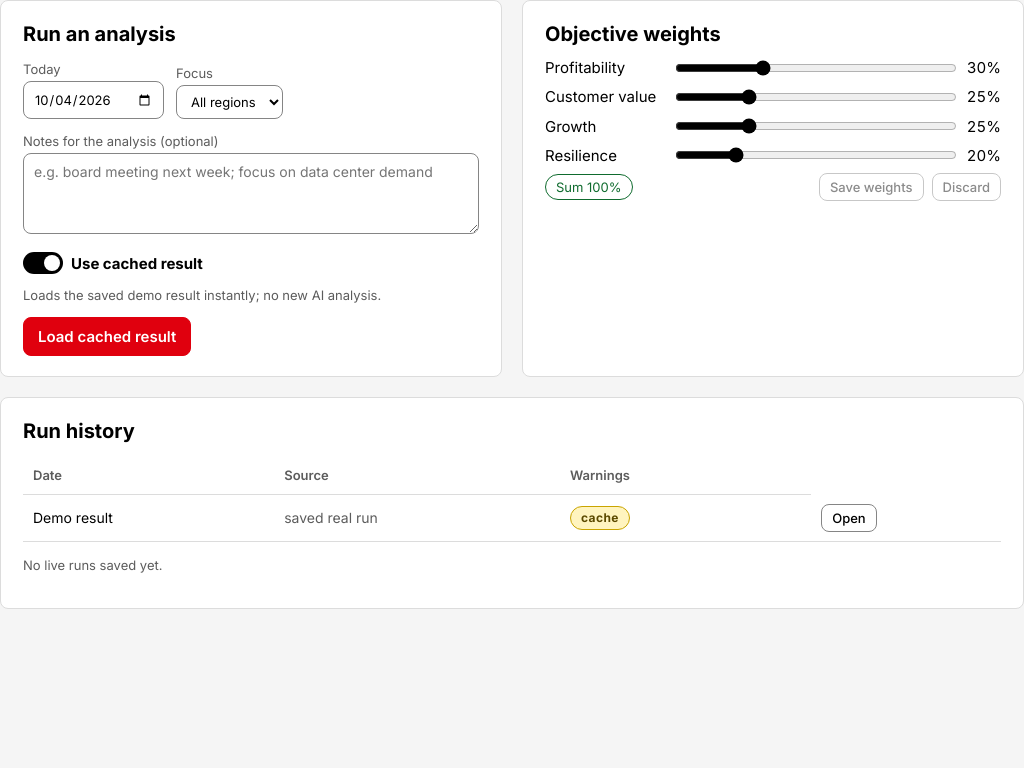
Test case: RunTab weights › shows an inline error and disables Run when the weights don't add up to 100
Check: the button "Load cached result" is enabled, box left=23, top=317, right=191, bottom=356
Check: the message with test id "weights-sum" reads "Sum 100%", box left=545, top=174, right=632, bottom=200
Set the slider labelled "Growth" to "40" at (789, 126), box left=675, top=118, right=957, bottom=134
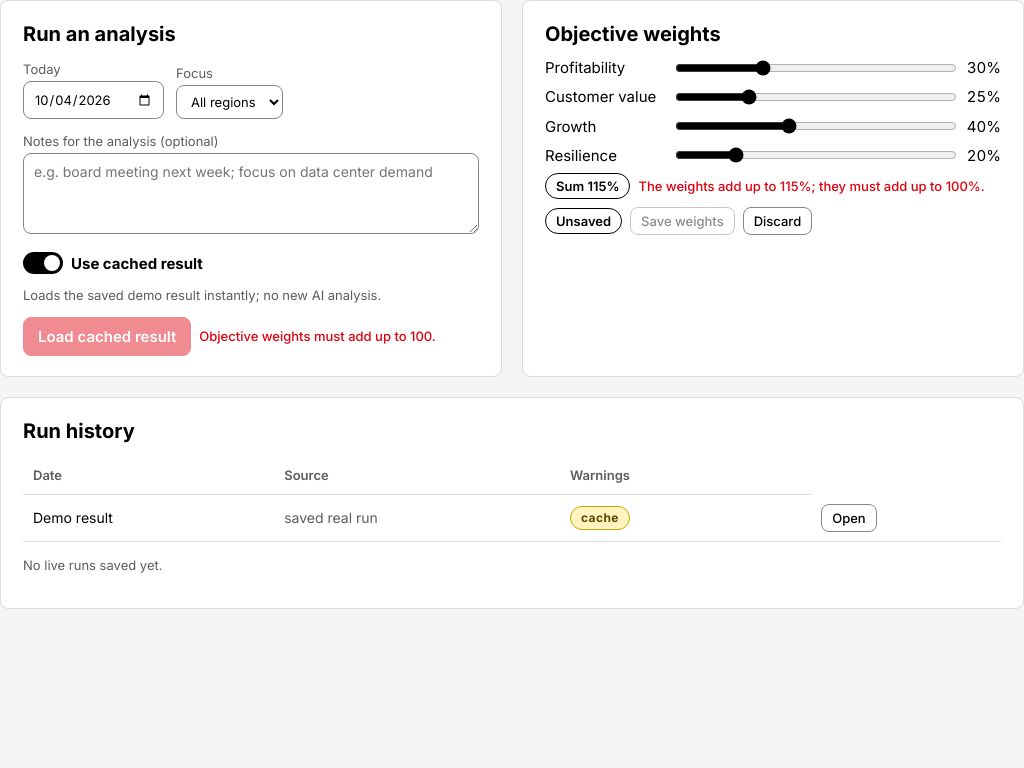
Check: the message with test id "weights-sum" reads "Sum 115%", box left=545, top=173, right=630, bottom=199
Check: the text "The weights add up to 115%; they must add up to 100%." is shown, box left=638, top=176, right=985, bottom=196
Check: the button "Load cached result" is disabled, box left=23, top=317, right=191, bottom=356
Set the slider labelled "Resilience" to "5" at (696, 155), box left=675, top=147, right=957, bottom=163
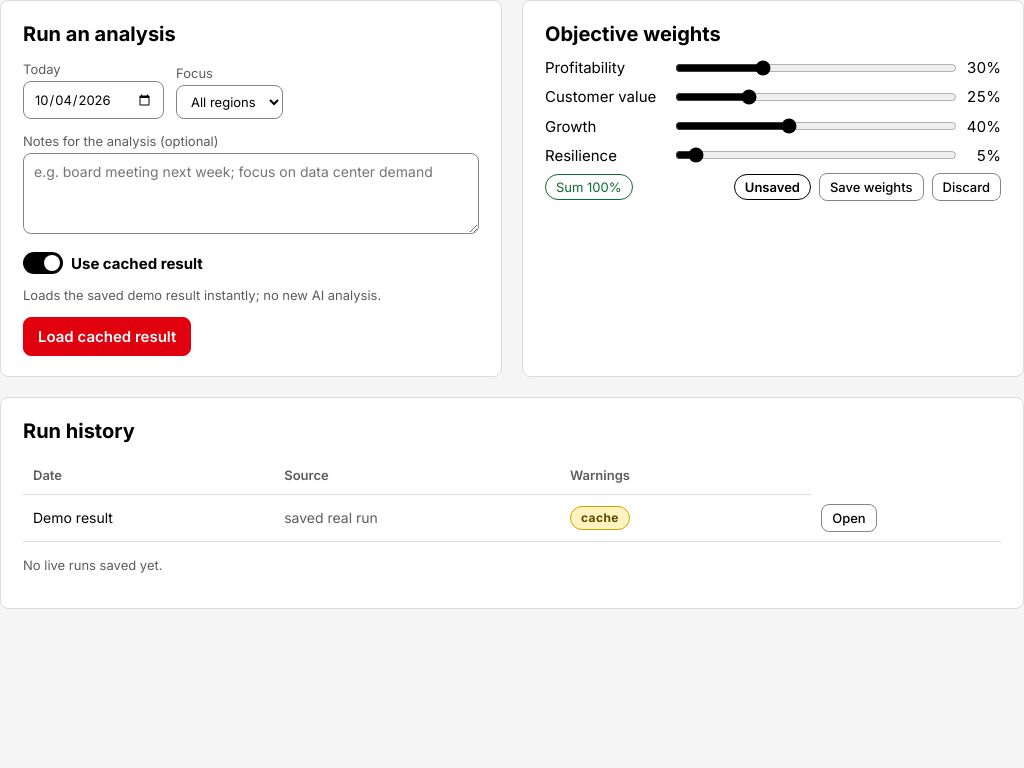
Check: the message with test id "weights-sum" reads "Sum 100%", box left=545, top=174, right=632, bottom=200
Check: the button "Load cached result" is enabled, box left=23, top=317, right=191, bottom=356
Check: the button "Save weights" is enabled, box left=819, top=173, right=924, bottom=201
